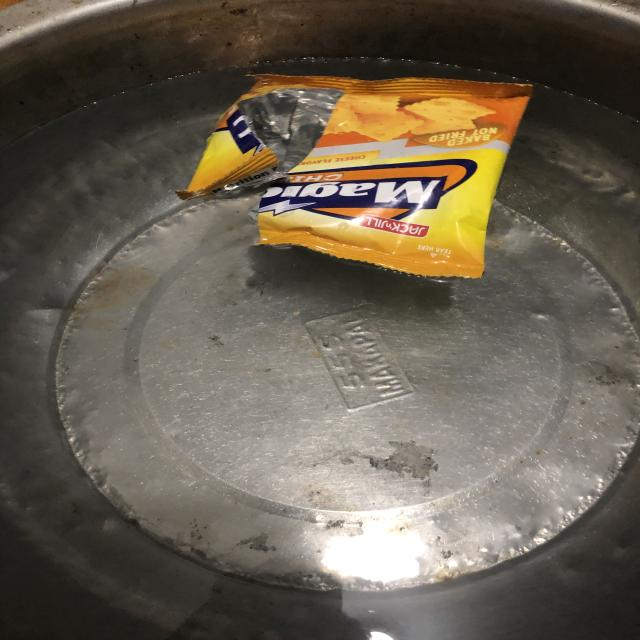Plastic Wrapper: (176, 75, 532, 278)
